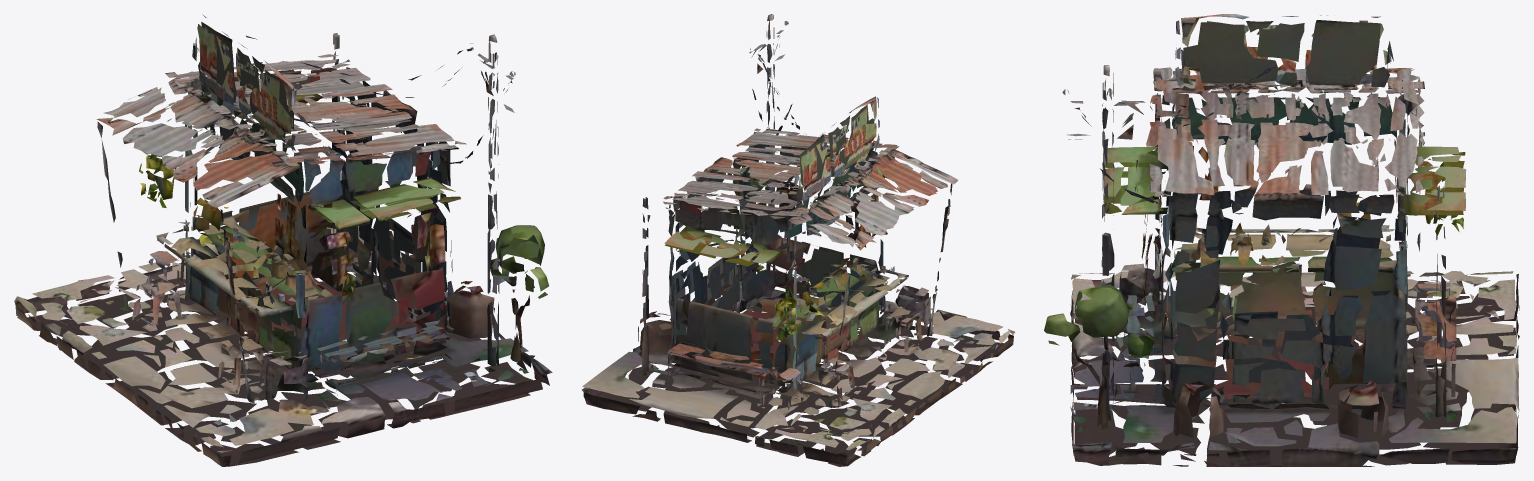
Rendered from tea_kadai.glb.
3 renders of one model, left to right at view 1: azimuth 30°, elevation 25°; view 2: azimuth 150°, elevation 25°; view 3: azimuth 270°, elevation 25°, orthographic. The views are drawn at different scales.
Parts seen in each view (by area): view 1: LowPolyProp; view 2: LowPolyProp; view 3: LowPolyProp.
Boxes of the visible parts, bbox=[...] form: LowPolyProp: bbox=[14, 14, 552, 466]; LowPolyProp: bbox=[582, 14, 1015, 466]; LowPolyProp: bbox=[1044, 14, 1519, 466].
Bounding box in the file's own units: 0.8412 × 0.8533 × 0.9722.
Materials: 1 (1 with a texture image).
